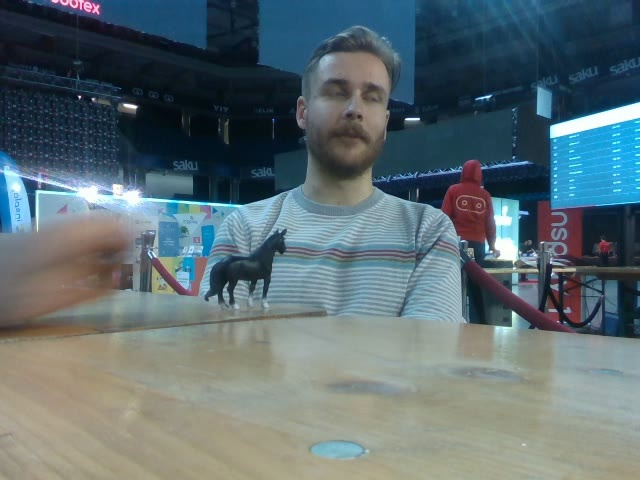toy: (207, 228, 287, 311)
